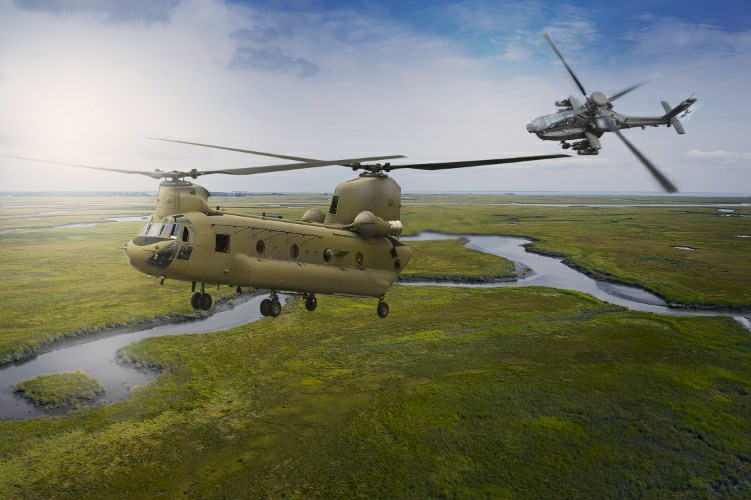apache ah-64: (511, 70, 707, 172)
chinook: (121, 146, 423, 333)
